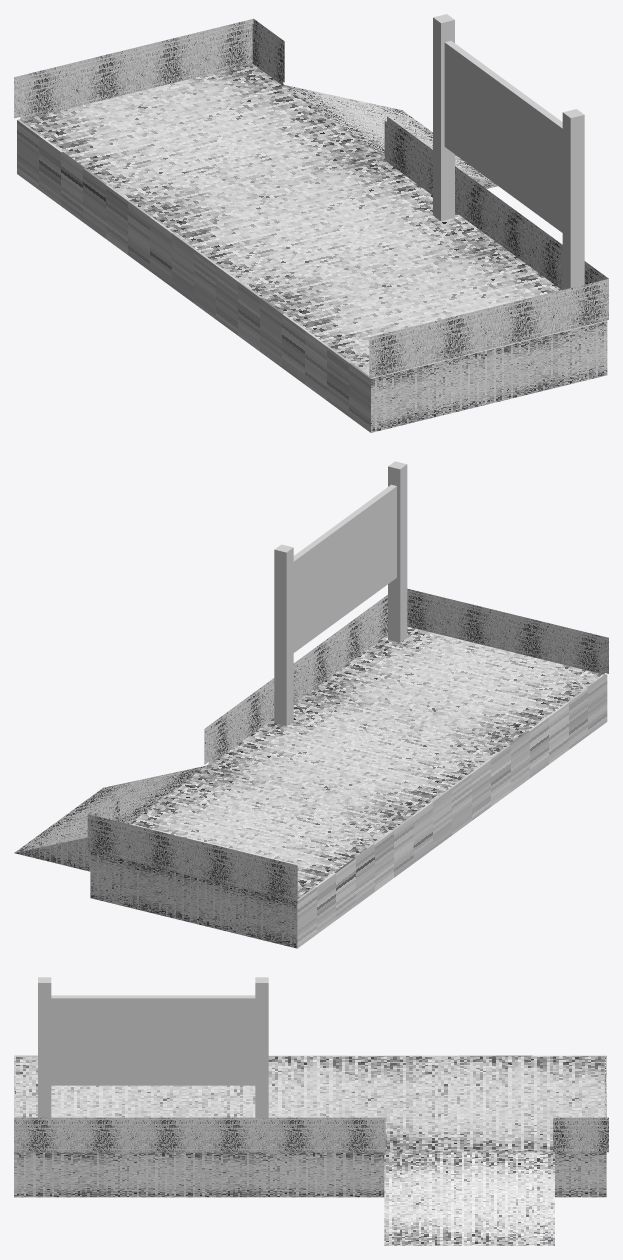
Rendered from trainPlatform.fbx.
3 renders of one model, top to bottom at view 1: azimuth 30°, elevation 25°; view 2: azimuth 150°, elevation 25°; view 3: azimuth 270°, elevation 25°, orthographic. The views are drawn at different scales.
Parts seen in each view (by area): view 1: platform, bulletin, platformRailings, platformRailingsOuter; view 2: platform, bulletin, platformRailings, platformRailingsOuter; view 3: platform, bulletin, platformRailingsOuter.
Boxes of the visible parts, x1,y1,x2,y2 form: platform: (17, 63, 607, 432); bulletin: (433, 14, 584, 289); platformRailings: (20, 23, 602, 289); platformRailingsOuter: (14, 18, 608, 378); platform: (14, 626, 607, 948); bulletin: (274, 461, 407, 725); platformRailings: (93, 591, 604, 865); platformRailingsOuter: (87, 588, 608, 901); platform: (14, 1055, 606, 1245); bulletin: (38, 977, 268, 1117); platformRailingsOuter: (14, 1117, 608, 1152).
Size of the model in its own units: 1379 by 933 by 2383.
